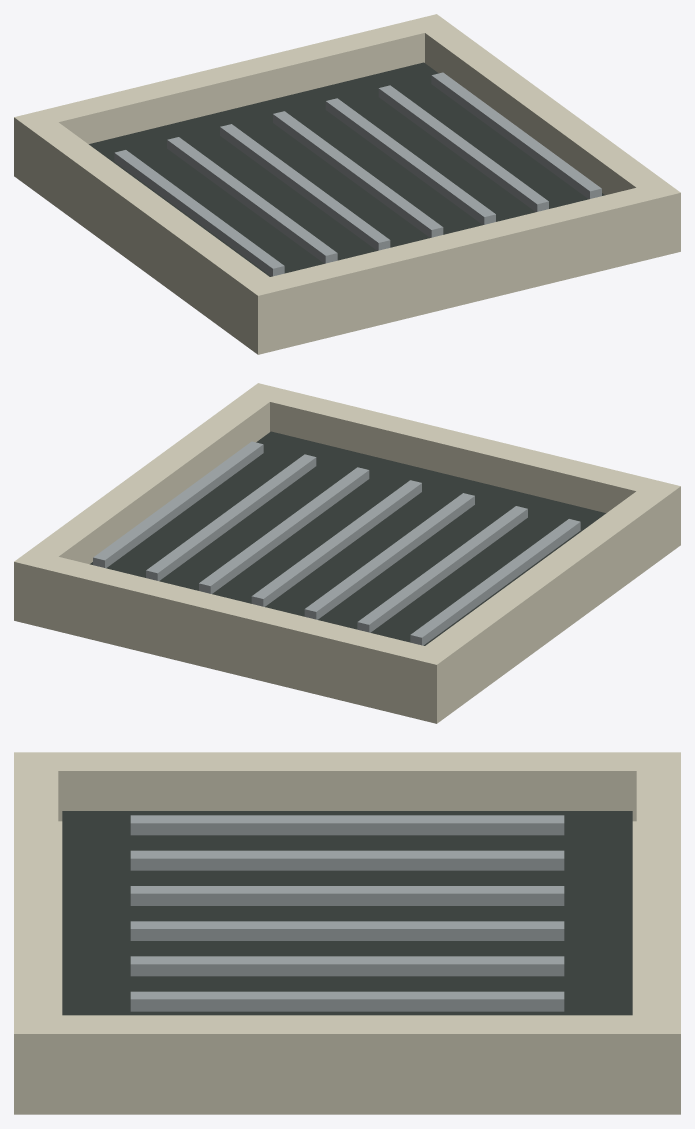
File: ShowerTray.glb
3 views of the same model, one above another, from view 1: azimuth 30°, elevation 25°; view 2: azimuth 150°, elevation 25°; view 3: azimuth 270°, elevation 25° (orthographic). The views are drawn at different scales.
Visible parts, largest first — view 1: bathroom-shower-tray; view 2: bathroom-shower-tray; view 3: bathroom-shower-tray.
Part boxes in pixels (box(x1,y1,x2,y2)): bathroom-shower-tray: box(14, 14, 680, 354); bathroom-shower-tray: box(14, 383, 680, 723); bathroom-shower-tray: box(14, 752, 680, 1114).
Size of the model in its own units: 0.9 by 0.12 by 0.9.
